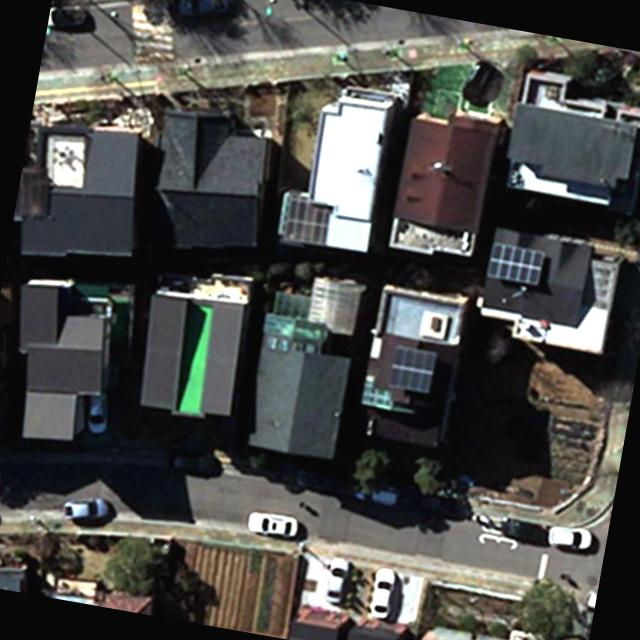solar: (386, 344, 440, 396), (485, 242, 545, 286)
